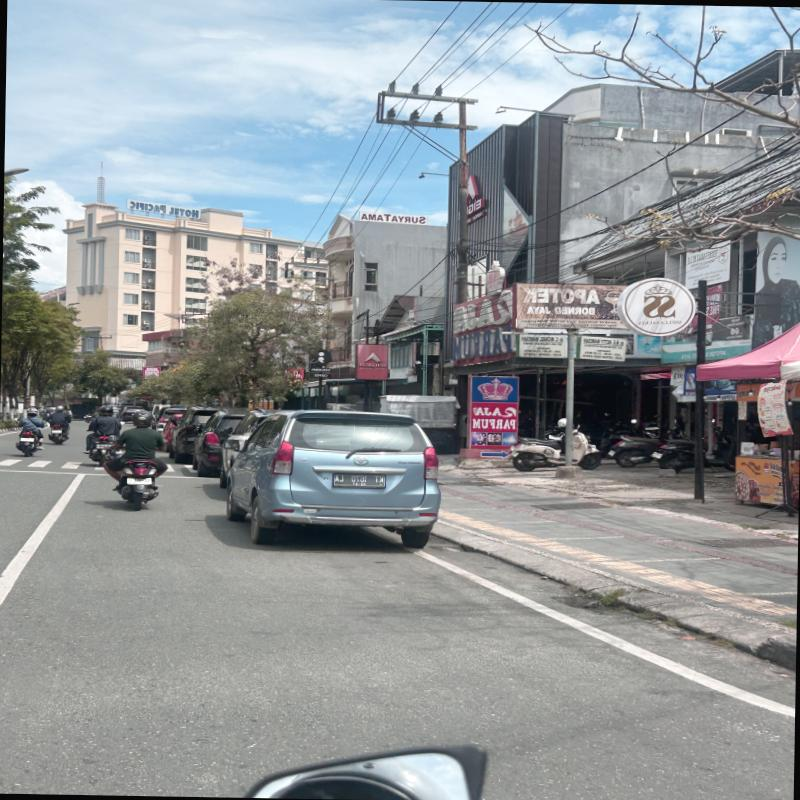license plate on a car: (333, 474, 384, 486)
